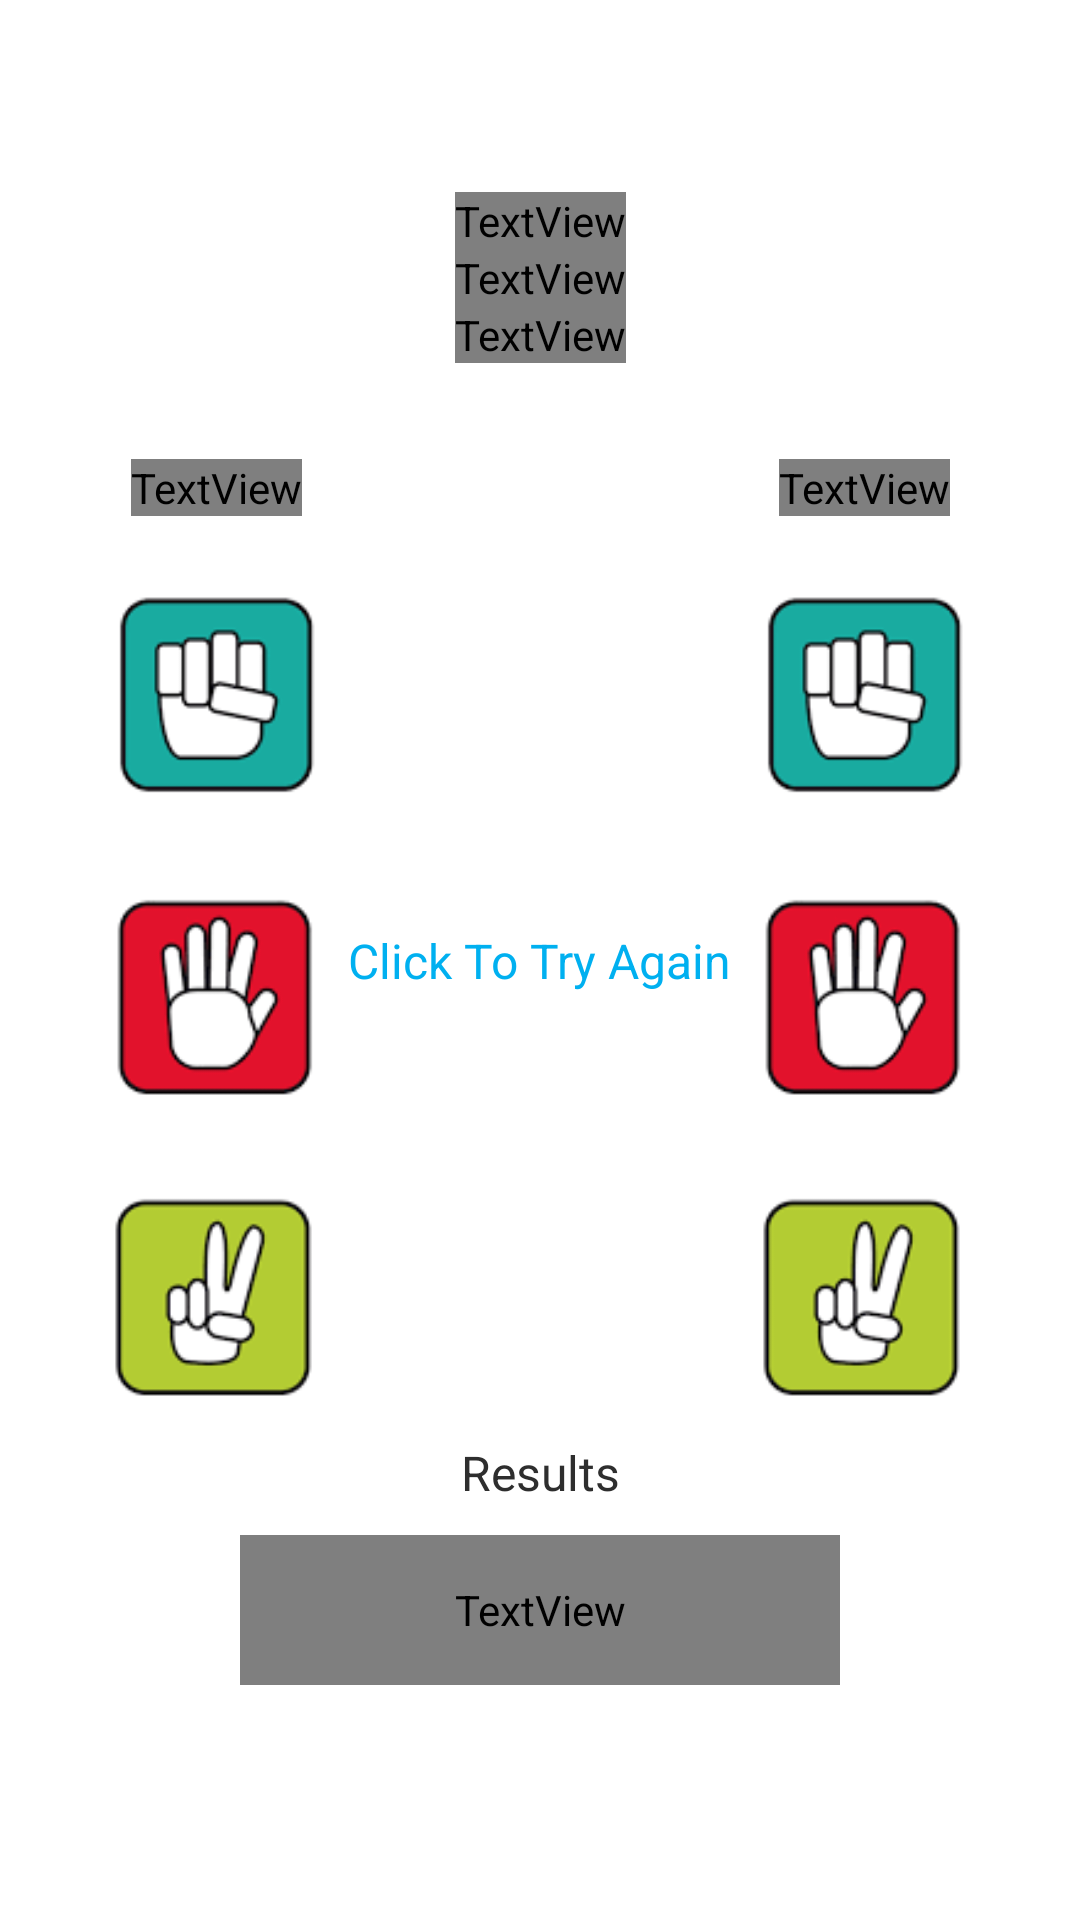

Named icons in this screenshot (1080×1920) and their bounding boxes, (x1, y1, x2, y2):
Paper: (117, 900, 312, 1095), (765, 900, 960, 1095)
Rock: (120, 597, 314, 792), (768, 597, 962, 792)
Scissors: (115, 1199, 312, 1396), (763, 1199, 960, 1396)
